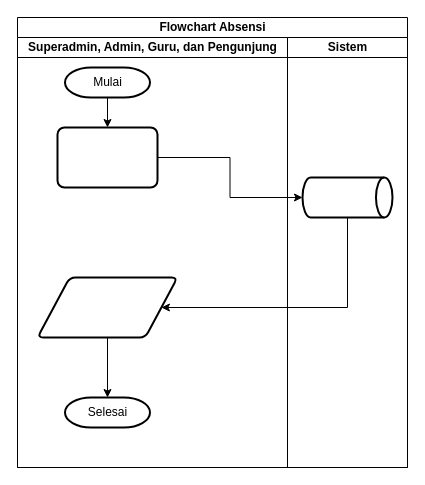
This 425x485 diagram has some shape labels left out. The centre of each missing label's shape, as x and y in pixels:
"Input Database" belongs at (347,197).
"Memasukkan data user" belongs at (107,157).
"Menampilkan notifikasi konfirmasi absensi" belongs at (107,307).
